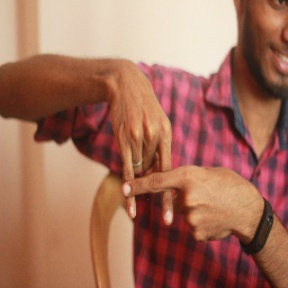H: (103, 122, 209, 232)
